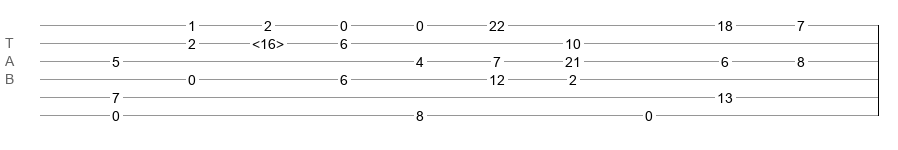0: (112, 108, 120, 118), (188, 72, 196, 82), (340, 18, 348, 28), (416, 18, 424, 28), (645, 108, 653, 118)
1: (188, 18, 196, 28)
10: (565, 36, 581, 46)
12: (489, 72, 505, 82)
13: (717, 90, 733, 100)
18: (717, 18, 733, 28)
2: (188, 36, 196, 46), (264, 18, 272, 28), (569, 72, 577, 82)
21: (565, 54, 581, 64)
22: (489, 18, 505, 28)
4: (416, 54, 424, 64)
5: (112, 54, 120, 64)
6: (340, 36, 348, 46), (340, 72, 348, 82), (721, 54, 729, 64)
7: (112, 90, 120, 100), (493, 54, 501, 64), (797, 18, 805, 28)
8: (416, 108, 424, 118), (797, 54, 805, 64)
harmonic: (252, 36, 284, 46)
